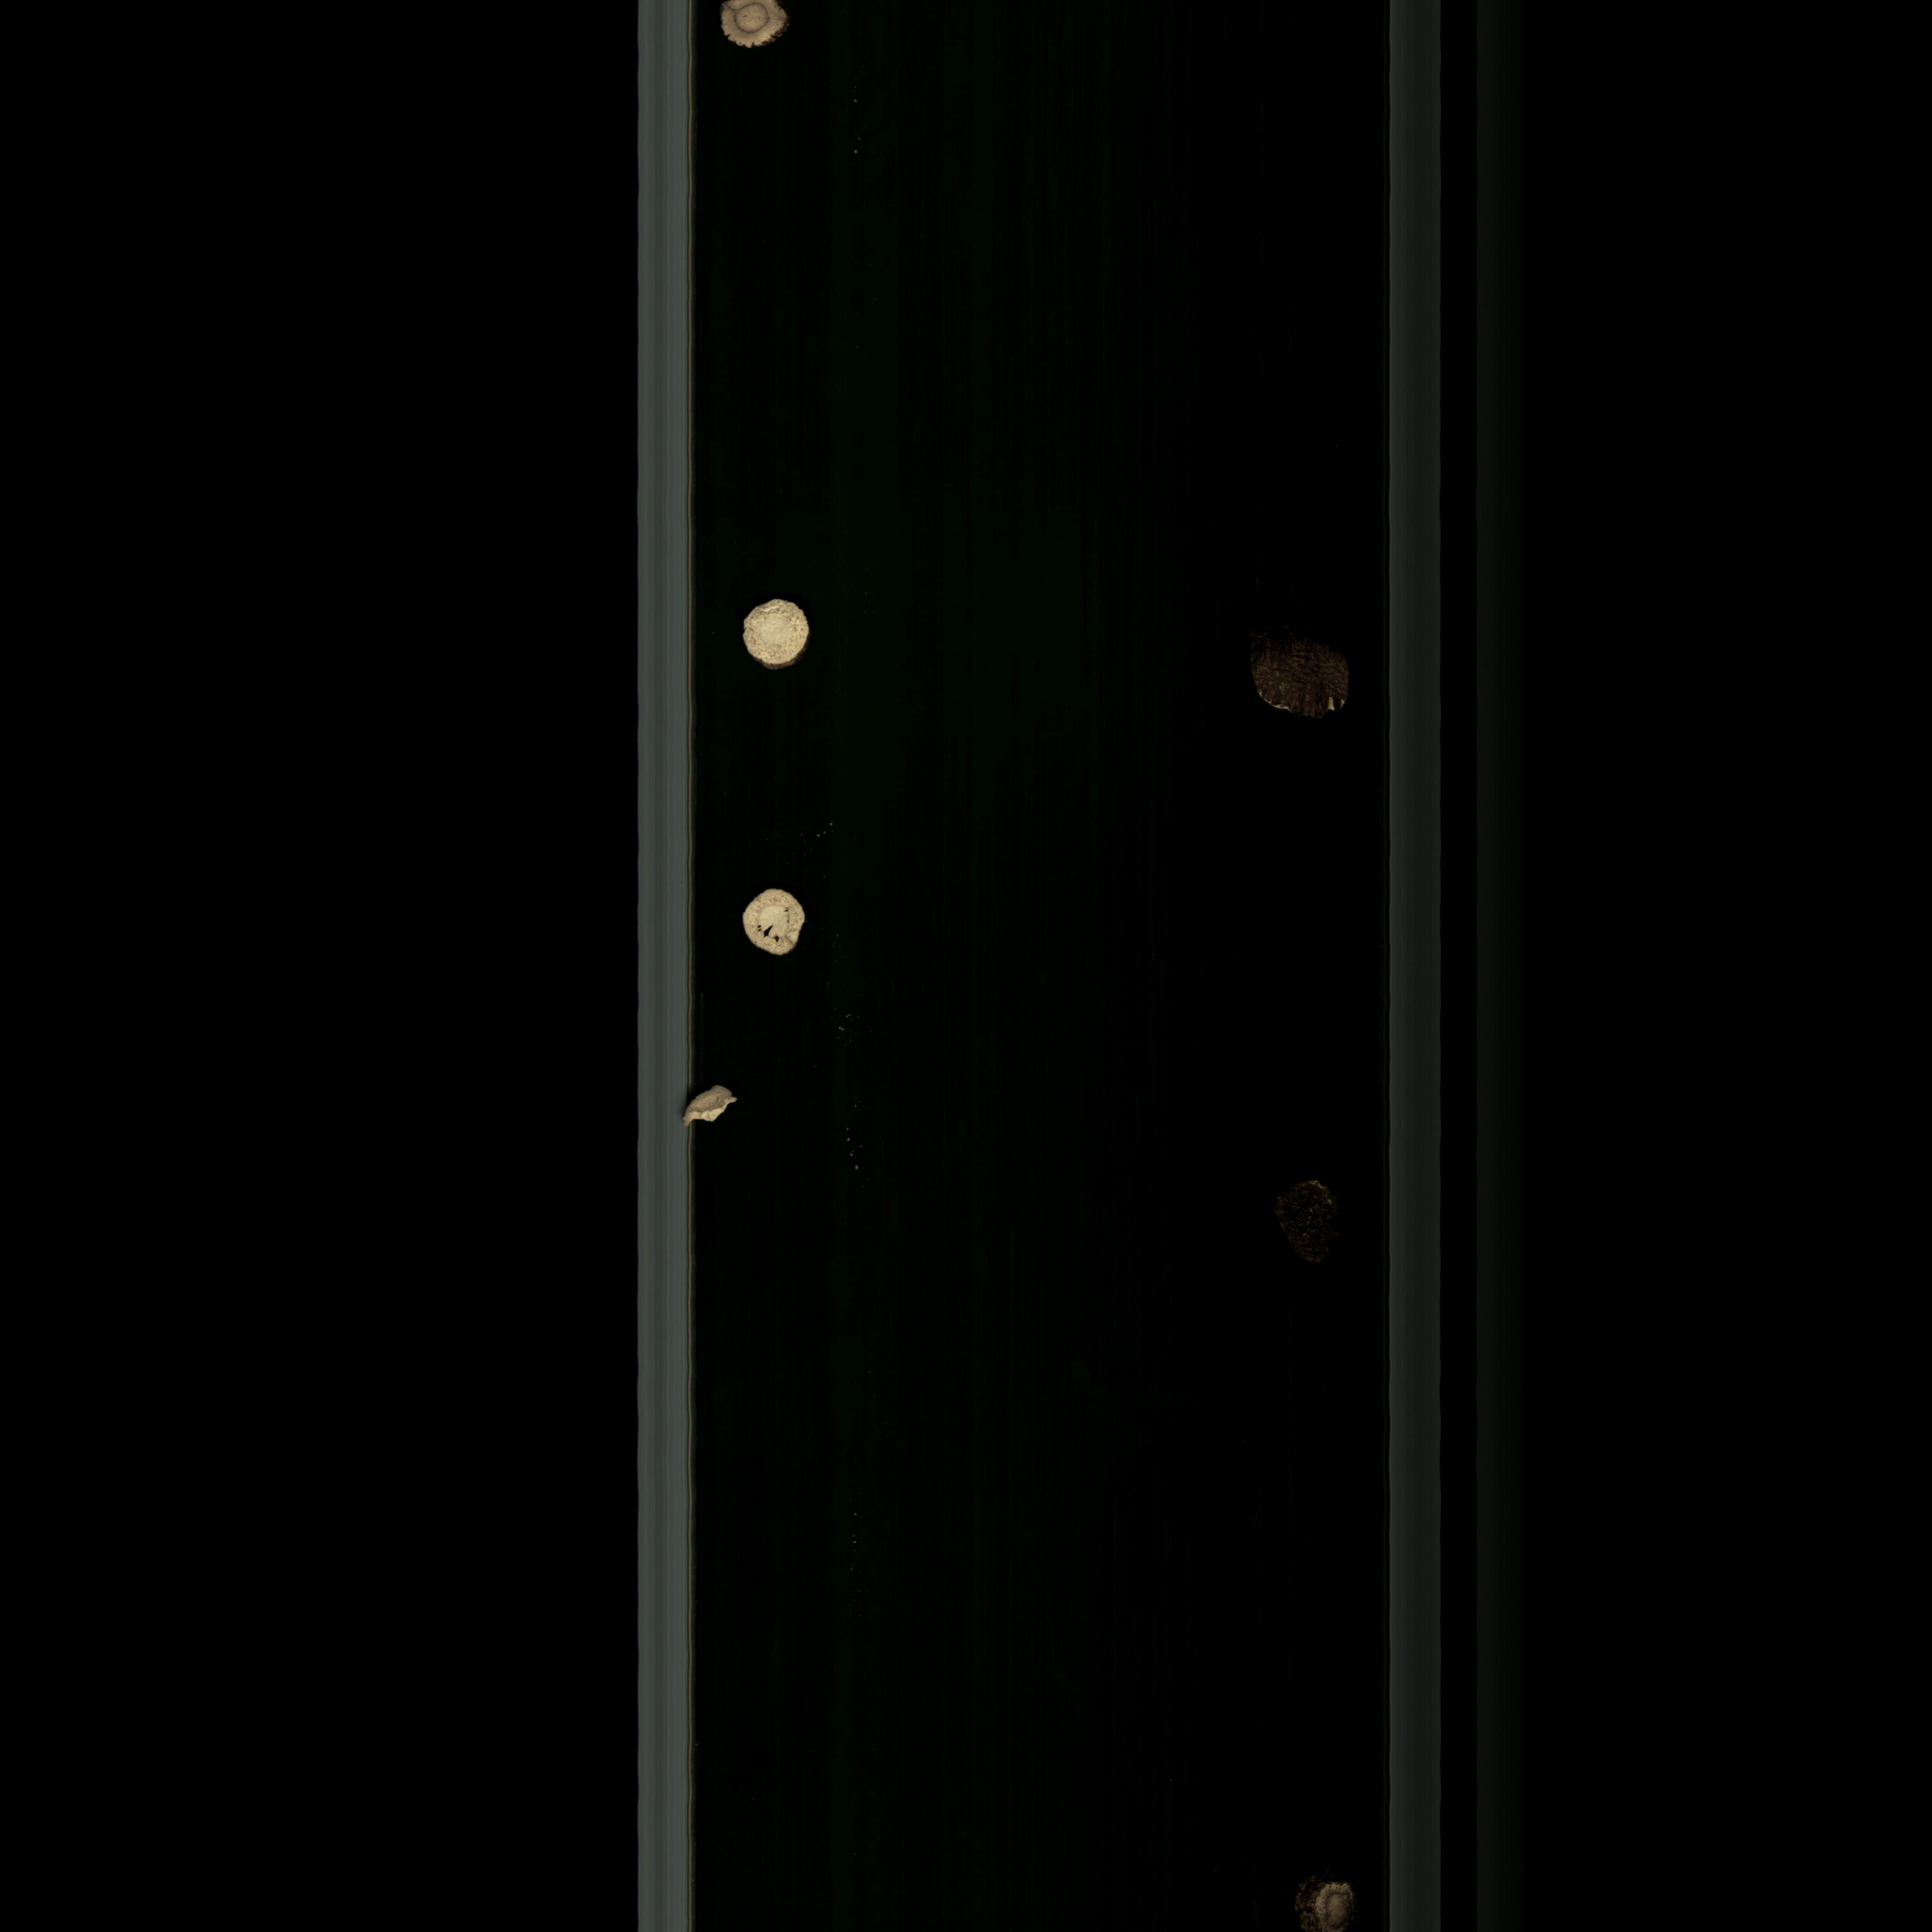bark: (1228, 619, 1375, 738), (1270, 1852, 1391, 1932)
dreg: (674, 1086, 755, 1136)
hole: (741, 876, 832, 973)
moldy: (718, 0, 807, 62)
